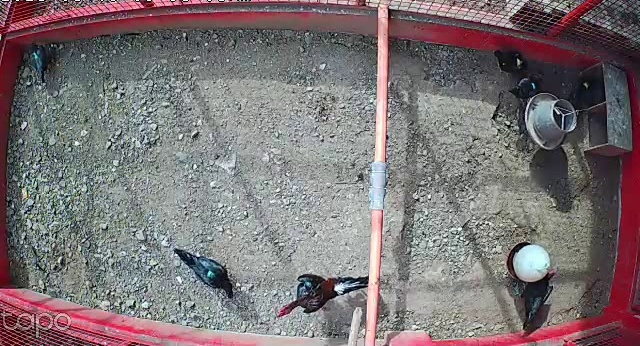Chicken: (507, 265, 561, 331), (172, 247, 237, 301), (507, 73, 545, 102), (29, 40, 51, 84), (490, 50, 529, 74)
Rooster: (272, 268, 375, 318)
Saddle_Color_Blue: (532, 82, 535, 88)
Saddle_Color_Yellow: (516, 57, 522, 67)
